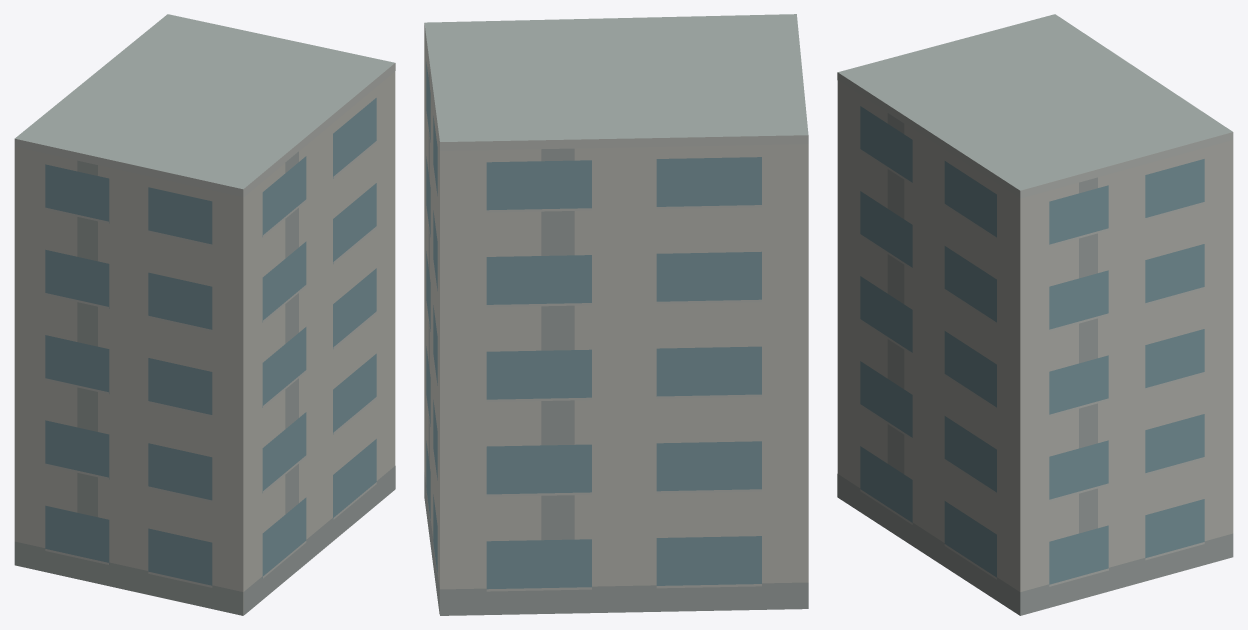
The model's file is survey-upis-32894131.glb.
3 views of the same model, side by side, from view 1: azimuth 30°, elevation 25°; view 2: azimuth 150°, elevation 25°; view 3: azimuth 270°, elevation 25° (orthographic). The views are drawn at different scales.
Visible parts, largest first — view 1: survey-upis-32894131.tmp; view 2: survey-upis-32894131.tmp; view 3: survey-upis-32894131.tmp.
Boxes of the visible parts, box(x1,y1,x2,y2) form: survey-upis-32894131.tmp: box(14, 14, 395, 615); survey-upis-32894131.tmp: box(424, 14, 808, 615); survey-upis-32894131.tmp: box(837, 14, 1233, 615).
Size of the model in its own units: 11.51 by 12.9 by 10.89.
